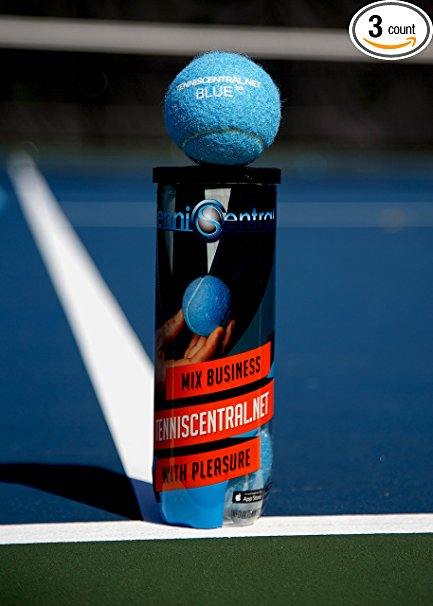blue ball: (162, 52, 282, 165), (182, 274, 231, 337)
